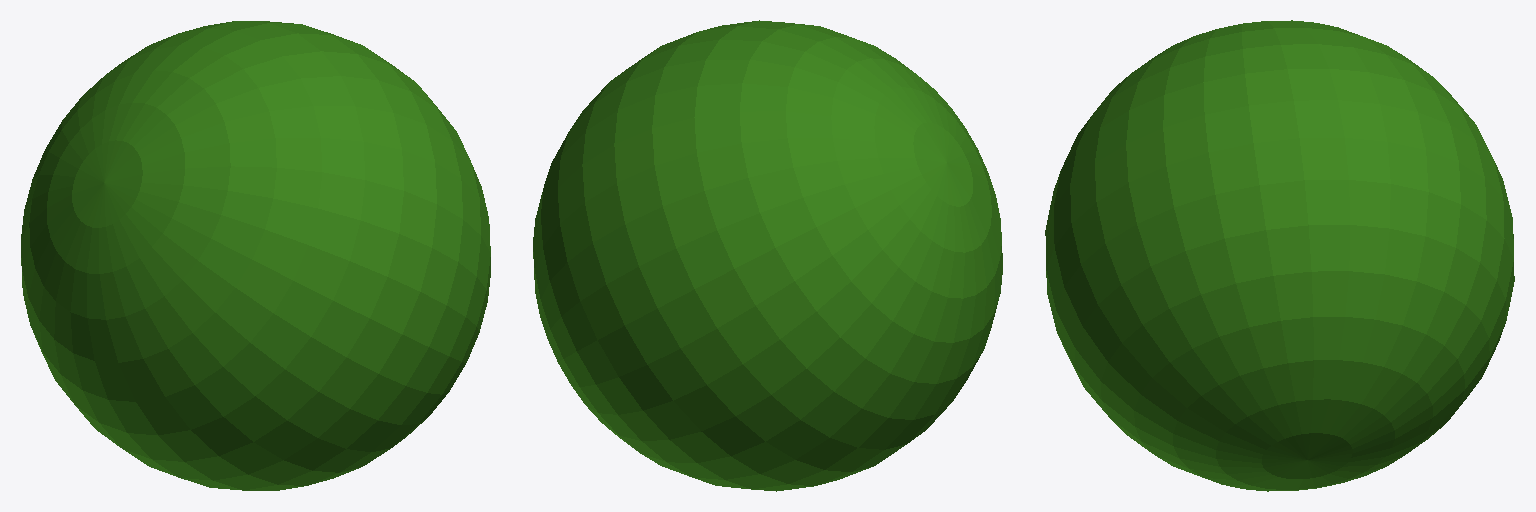
URDF robot description (onshape):
<robot name="onshape">
    
    <link name="fake_dummy_body:1">
        <visual>
            <origin xyz="0 0 0" rpy="-0.785398 -0.61548 1.19113" />
            <geometry>
                <sphere radius="0.1"/>
            </geometry>
            <material name="fake_dummy_body:1_material">
                <color rgba="0.282353 0.54902 0.160784 1.0"/>
            </material>
        </visual>
        <collision>
            <origin xyz="0 0 0" rgba="1 0 0 0.5" />
            <geometry>
                <sphere radius="0.1"/>
            </geometry>
            <material name="fake_dummy_body:1_material">
                <color rgba="0.282353 0.54902 0.160784 1.0"/>
            </material>
        </collision>
        <inertial>
            <origin xyz="0 0 0" rpy="0 0 0"/>
            <mass value="0.0737312" />
            <inertia ixx="0.00107839" ixy="-2.72753e-07" ixz="-6.10453e-07" iyy="0.00107874" iyz="-3.33412e-07" izz="0.00107814" />
        </inertial>
    </link>

    <link name="rev_joint:1">
        <visual>
            <origin xyz="0 0 0" rpy="3.14159 0 0" />
            <geometry>
                <mesh filename="package://rev_joint:1.stl"/>
            </geometry>
            <material name="rev_joint:1_material">
                <color rgba="0.980392 0.713725 0.00392157 1.0"/>
            </material>
        </visual>
        <collision>
            <origin xyz="0 0 0" rpy="3.14159 0 0" />
            <geometry>
                <mesh filename="package://rev_joint:1.stl"/>
            </geometry>
            <material name="rev_joint:1_material">
                <color rgba="0.980392 0.713725 0.00392157 1.0"/>
            </material>
        </collision>
        <inertial>
            <origin xyz="0.0438631 -1.74312e-17 -0.000928357" rpy="0 0 0"/>
            <mass value="0.00153243" />
            <inertia ixx="1.18928e-06" ixy="1.25481e-22" ixz="-8.58241e-08" iyy="2.31952e-06" iyz="1.38287e-22" izz="2.36022e-06" />
        </inertial>
    </link>

    <link name="member:1">
        <visual>
            <origin xyz="0 0 -0.5" rpy="5.55112e-17 -0 0" />
            <geometry>
                <mesh filename="package://member:1.stl"/>
            </geometry>
            <material name="member:1_material">
                <color rgba="0 0 1 1.0"/>
            </material>
        </visual>
        <collision>
            <origin xyz="0 0 -0.5" rpy="5.55112e-17 -0 0" />
            <geometry>
                <mesh filename="package://member:1.stl"/>
            </geometry>
            <material name="member:1_material">
                <color rgba="0 0 1 1.0"/>
            </material>
            <surface>
                <friction>
                <ode>
                    <mu>1</mu>
                    <mu2>0.5</mu2>
                </ode>
                </friction>
            </surface>
        </collision>
        <inertial>
            <origin xyz="0 0 -0.402703" rpy="0 0 0"/>
            <mass value="6.54356" />
            <inertia ixx="0.175312" ixy="-1.94635e-17" ixz="0" iyy="0.175312" iyz="1.82947e-09" izz="0.0193419" />
        </inertial>
    </link>

    <joint name="pri1" type="prismatic">
        <origin xyz="0.1 -2.77556e-17 2.21177e-17" rpy="1.5708 -1.27676e-15 -1.5708" />
        <parent link="rev_joint:1" />
        <child link="member:1" />
        <axis xyz="0 0 1"/>
        <limit effort="1" velocity="20" lower="-1" upper="0"/>
        <joint_properties friction="0.0"/>
    </joint>

    <joint name="rev1" type="revolute">
        <origin xyz="0.121208 0.0219977 -0.0845971" rpy="0.785398 0.61548 0.143931" />
        <parent link="fake_dummy_body:1" />
        <child link="rev_joint:1" />
        <axis xyz="0 0 1"/>
        <limit effort="1" velocity="20" lower="-1" upper="1"/>
        <joint_properties friction="0.0"/>
    </joint>

    <link name="rev_joint:1_2">
        <visual>
            <origin xyz="0 -1.0842e-18 -1.51788e-18" rpy="-3.14159 -0 -5.55112e-17" />
            <geometry>
                <mesh filename="package://rev_joint:1.stl"/>
            </geometry>
            <material name="rev_joint:1_material">
                <color rgba="0.980392 0.713725 0.00392157 1.0"/>
            </material>
        </visual>
        <collision>
            <origin xyz="0 -1.0842e-18 -1.51788e-18" rpy="-3.14159 -0 -5.55112e-17" />
            <geometry>
                <mesh filename="package://rev_joint:1.stl"/>
            </geometry>
            <material name="rev_joint:1_material">
                <color rgba="0.980392 0.713725 0.00392157 1.0"/>
            </material>
        </collision>
        <inertial>
            <origin xyz="0.0438631 -2.09962e-18 -0.000928357" rpy="0 0 0"/>
            <mass value="0.00153243" />
            <inertia ixx="1.18928e-06" ixy="2.56032e-22" ixz="-8.58241e-08" iyy="2.31952e-06" iyz="-7.26909e-24" izz="2.36022e-06" />
        </inertial>
    </link>

    <link name="member:1_2">
        <visual>
            <origin xyz="-1.14709e-16 6.16911e-17 -0.5" rpy="1.11022e-16 5.55112e-17 0" />
            <geometry>
                <mesh filename="package://member:1.stl"/>
            </geometry>
            <material name="member:1_material">
                <color rgba="0 0 1 1.0"/>
            </material>
        </visual>
        <collision>
            <origin xyz="-1.14709e-16 6.16911e-17 -0.5" rpy="1.11022e-16 5.55112e-17 0" />
            <geometry>
                <mesh filename="package://member:1.stl"/>
            </geometry>
            <material name="member:1_material">
                <color rgba="0 0 1 1.0"/>
            </material>
            <surface>
                <friction>
                <ode>
                    <mu>1</mu>
                    <mu2>0.5</mu2>
                </ode>
                </friction>
            </surface>
        </collision>
        <inertial>
            <origin xyz="-9.8046e-17 0 -0.402703" rpy="0 0 0"/>
            <mass value="6.54356" />
            <inertia ixx="0.175312" ixy="-9.73176e-18" ixz="3.78533e-17" iyy="0.175312" iyz="1.82947e-09" izz="0.0193419" />
        </inertial>
    </link>

    <joint name="pri2" type="prismatic">
        <origin xyz="0.1 -1.46801e-16 3.17671e-16" rpy="1.5708 4.996e-16 -1.5708" />
        <parent link="rev_joint:1_2" />
        <child link="member:1_2" />
        <axis xyz="0 0 1"/>
        <limit effort="1" velocity="20" lower="-1" upper="0"/>
        <joint_properties friction="0.0"/>
    </joint>

    <joint name="rev2" type="revolute">
        <origin xyz="-0.0453905 -0.109322 -0.0845971" rpy="0.785398 0.61548 -1.95046" />
        <parent link="fake_dummy_body:1" />
        <child link="rev_joint:1_2" />
        <axis xyz="0 0 1"/>
        <limit effort="1" velocity="20" lower="-1" upper="1"/>
        <joint_properties friction="0.0"/>
    </joint>

    <link name="rev_joint:1_3">
        <visual>
            <origin xyz="-2.77556e-17 1.73472e-18 -2.60209e-18" rpy="-3.14159 -5.55112e-17 0" />
            <geometry>
                <mesh filename="package://rev_joint:1.stl"/>
            </geometry>
            <material name="rev_joint:1_material">
                <color rgba="0.980392 0.713725 0.00392157 1.0"/>
            </material>
        </visual>
        <collision>
            <origin xyz="-2.77556e-17 1.73472e-18 -2.60209e-18" rpy="-3.14159 -5.55112e-17 0" />
            <geometry>
                <mesh filename="package://rev_joint:1.stl"/>
            </geometry>
            <material name="rev_joint:1_material">
                <color rgba="0.980392 0.713725 0.00392157 1.0"/>
            </material>
        </collision>
        <inertial>
            <origin xyz="0.0438631 3.05113e-18 -0.000928357" rpy="0 0 0"/>
            <mass value="0.00153243" />
            <inertia ixx="1.18928e-06" ixy="-4.76419e-24" ixz="-8.58241e-08" iyy="2.31952e-06" iyz="2.59777e-22" izz="2.36022e-06" />
        </inertial>
    </link>

    <link name="member:1_3">
        <visual>
            <origin xyz="2.77556e-17 3.36103e-18 -0.5" rpy="0 -0 0" />
            <geometry>
                <mesh filename="package://member:1.stl"/>
            </geometry>
            <material name="member:1_material">
                <color rgba="0 0 1 1.0"/>
            </material>
        </visual>
        <collision>
            <origin xyz="2.77556e-17 3.36103e-18 -0.5" rpy="0 -0 0" />
            <geometry>
                <mesh filename="package://member:1.stl"/>
            </geometry>
            <material name="member:1_material">
                <color rgba="0 0 1 1.0"/>
            </material>
            <surface>
                <friction>
                <ode>
                    <mu>1</mu>
                    <mu2>0.5</mu2>
                </ode>
                </friction>
            </surface>
        </collision>
        <inertial>
            <origin xyz="2.28138e-17 0 -0.402703" rpy="0 0 0"/>
            <mass value="6.54356" />
            <inertia ixx="0.175312" ixy="-1.94635e-17" ixz="0" iyy="0.175312" iyz="1.82947e-09" izz="0.0193419" />
        </inertial>
    </link>

    <joint name="pri3" type="prismatic">
        <origin xyz="0.1 4.33681e-17 -3.72966e-17" rpy="-3.14159 1.5708 0" />
        <parent link="rev_joint:1_3" />
        <child link="member:1_3" />
        <axis xyz="0 0 1"/>
        <limit effort="1" velocity="20" lower="-1" upper="0"/>
        <joint_properties friction="0.0"/>
    </joint>

    <joint name="rev3" type="revolute">
        <origin xyz="-0.0758176 0.100616 -0.0845971" rpy="-2.35619 0.61548 2.23833" />
        <parent link="fake_dummy_body:1" />
        <child link="rev_joint:1_3" />
        <axis xyz="0 0 1"/>
        <limit effort="1" velocity="20" lower="-1" upper="1"/>
        <joint_properties friction="0.0"/>
    </joint>

    <link name="rev_joint:1_4">
        <visual>
            <origin xyz="2.77556e-17 -3.90313e-18 6.93889e-18" rpy="3.14159 -5.55112e-17 0" />
            <geometry>
                <mesh filename="package://rev_joint:1.stl"/>
            </geometry>
            <material name="rev_joint:1_material">
                <color rgba="0.980392 0.713725 0.00392157 1.0"/>
            </material>
        </visual>
        <collision>
            <origin xyz="2.77556e-17 -3.90313e-18 6.93889e-18" rpy="3.14159 -5.55112e-17 0" />
            <geometry>
                <mesh filename="package://rev_joint:1.stl"/>
            </geometry>
            <material name="rev_joint:1_material">
                <color rgba="0.980392 0.713725 0.00392157 1.0"/>
            </material>
        </collision>
        <inertial>
            <origin xyz="0.0438631 -2.43212e-18 -0.000928357" rpy="0 0 0"/>
            <mass value="0.00153243" />
            <inertia ixx="1.18928e-06" ixy="7.07826e-23" ixz="-8.58241e-08" iyy="2.31952e-06" iyz="-3.93301e-22" izz="2.36022e-06" />
        </inertial>
    </link>

    <link name="member:1_4">
        <visual>
            <origin xyz="0 5.09575e-18 -0.5" rpy="0 -5.55112e-17 -5.55112e-17" />
            <geometry>
                <mesh filename="package://member:1.stl"/>
            </geometry>
            <material name="member:1_material">
                <color rgba="0 0 1 1.0"/>
            </material>
        </visual>
        <collision>
            <origin xyz="0 5.09575e-18 -0.5" rpy="0 -5.55112e-17 -5.55112e-17" />
            <geometry>
                <mesh filename="package://member:1.stl"/>
            </geometry>
            <material name="member:1_material">
                <color rgba="0 0 1 1.0"/>
            </material>
            <surface>
                <friction>
                <ode>
                    <mu>1</mu>
                    <mu2>0.5</mu2>
                </ode>
                </friction>
            </surface>
        </collision>
        <inertial>
            <origin xyz="-1.57439e-17 0 -0.402703" rpy="0 0 0"/>
            <mass value="6.54356" />
            <inertia ixx="0.175312" ixy="-5.30476e-24" ixz="-1.83898e-17" iyy="0.175312" iyz="1.82947e-09" izz="0.0193419" />
        </inertial>
    </link>

    <joint name="pri4" type="prismatic">
        <origin xyz="0.1 -9.41087e-17 7.63278e-17" rpy="-3.14159 1.5708 0" />
        <parent link="rev_joint:1_4" />
        <child link="member:1_4" />
        <axis xyz="0 0 1"/>
        <limit effort="1" velocity="20" lower="-1" upper="0"/>
        <joint_properties friction="0.0"/>
    </joint>

    <joint name="rev4" type="revolute">
        <origin xyz="0.0758176 -0.0917551 0.088608" rpy="-0.785398 -0.61548 -0.903267" />
        <parent link="fake_dummy_body:1" />
        <child link="rev_joint:1_4" />
        <axis xyz="0 0 1"/>
        <limit effort="1" velocity="20" lower="-1" upper="1"/>
        <joint_properties friction="0.0"/>
    </joint>

    <link name="rev_joint:1_5">
        <visual>
            <origin xyz="0 4.33681e-19 7.58942e-19" rpy="3.14159 5.55112e-17 0" />
            <geometry>
                <mesh filename="package://rev_joint:1.stl"/>
            </geometry>
            <material name="rev_joint:1_material">
                <color rgba="0.980392 0.713725 0.00392157 1.0"/>
            </material>
        </visual>
        <collision>
            <origin xyz="0 4.33681e-19 7.58942e-19" rpy="3.14159 5.55112e-17 0" />
            <geometry>
                <mesh filename="package://rev_joint:1.stl"/>
            </geometry>
            <material name="rev_joint:1_material">
                <color rgba="0.980392 0.713725 0.00392157 1.0"/>
            </material>
        </collision>
        <inertial>
            <origin xyz="0.0438631 1.80162e-18 -0.000928357" rpy="0 0 0"/>
            <mass value="0.00153243" />
            <inertia ixx="1.18928e-06" ixy="2.64074e-22" ixz="-8.58241e-08" iyy="2.31952e-06" iyz="-1.90568e-23" izz="2.36022e-06" />
        </inertial>
    </link>

    <link name="member:1_5">
        <visual>
            <origin xyz="5.26922e-17 6.87384e-17 -0.5" rpy="5.55112e-17 -5.55112e-17 5.55112e-17" />
            <geometry>
                <mesh filename="package://member:1.stl"/>
            </geometry>
            <material name="member:1_material">
                <color rgba="0 0 1 1.0"/>
            </material>
        </visual>
        <collision>
            <origin xyz="5.26922e-17 6.87384e-17 -0.5" rpy="5.55112e-17 -5.55112e-17 5.55112e-17" />
            <geometry>
                <mesh filename="package://member:1.stl"/>
            </geometry>
            <material name="member:1_material">
                <color rgba="0 0 1 1.0"/>
            </material>
            <surface>
                <friction>
                <ode>
                    <mu>1</mu>
                    <mu2>0.5</mu2>
                </ode>
                </friction>
            </surface>
        </collision>
        <inertial>
            <origin xyz="4.23494e-17 0 -0.402703" rpy="0 0 0"/>
            <mass value="6.54356" />
            <inertia ixx="0.175312" ixy="2.91953e-17" ixz="-8.65807e-18" iyy="0.175312" iyz="1.82947e-09" izz="0.0193419" />
        </inertial>
    </link>

    <joint name="pri5" type="prismatic">
        <origin xyz="0.1 2.22478e-16 2.08926e-16" rpy="1.5708 1.66533e-16 -1.5708" />
        <parent link="rev_joint:1_5" />
        <child link="member:1_5" />
        <axis xyz="0 0 1"/>
        <limit effort="1" velocity="20" lower="-1" upper="0"/>
        <joint_properties friction="0.0"/>
    </joint>

    <joint name="rev5" type="revolute">
        <origin xyz="0.0453905 0.118183 0.088608" rpy="2.35619 -0.61548 1.19113" />
        <parent link="fake_dummy_body:1" />
        <child link="rev_joint:1_5" />
        <axis xyz="0 0 1"/>
        <limit effort="1" velocity="20" lower="-1" upper="1"/>
        <joint_properties friction="0.0"/>
    </joint>

    <link name="rev_joint:1_6">
        <visual>
            <origin xyz="0 -4.33681e-18 5.85469e-18" rpy="-3.14159 -0 -5.55112e-17" />
            <geometry>
                <mesh filename="package://rev_joint:1.stl"/>
            </geometry>
            <material name="rev_joint:1_material">
                <color rgba="0.980392 0.713725 0.00392157 1.0"/>
            </material>
        </visual>
        <collision>
            <origin xyz="0 -4.33681e-18 5.85469e-18" rpy="-3.14159 -0 -5.55112e-17" />
            <geometry>
                <mesh filename="package://rev_joint:1.stl"/>
            </geometry>
            <material name="rev_joint:1_material">
                <color rgba="0.980392 0.713725 0.00392157 1.0"/>
            </material>
        </collision>
        <inertial>
            <origin xyz="0.0438631 -5.35223e-18 -0.000928357" rpy="0 0 0"/>
            <mass value="0.00153243" />
            <inertia ixx="1.18928e-06" ixy="2.51268e-22" ixz="-8.58241e-08" iyy="2.31952e-06" iyz="1.23749e-22" izz="2.36022e-06" />
        </inertial>
    </link>

    <link name="member:1_6">
        <visual>
            <origin xyz="-5.63785e-17 -2.77556e-17 -0.5" rpy="0 5.55112e-17 0" />
            <geometry>
                <mesh filename="package://member:1.stl"/>
            </geometry>
            <material name="member:1_material">
                <color rgba="0 0 1 1.0"/>
            </material>
        </visual>
        <collision>
            <origin xyz="-5.63785e-17 -2.77556e-17 -0.5" rpy="0 5.55112e-17 0" />
            <geometry>
                <mesh filename="package://member:1.stl"/>
            </geometry>
            <material name="member:1_material">
                <color rgba="0 0 1 1.0"/>
            </material>
            <surface>
                <friction>
                <ode>
                    <mu>1</mu>
                    <mu2>0.5</mu2>
                </ode>
                </friction>
            </surface>
        </collision>
        <inertial>
            <origin xyz="-5.05181e-17 0 -0.402703" rpy="0 0 0"/>
            <mass value="6.54356" />
            <inertia ixx="0.175312" ixy="-1.09142e-23" ixz="1.83898e-17" iyy="0.175312" iyz="1.82947e-09" izz="0.0193419" />
        </inertial>
    </link>

    <joint name="pri6" type="prismatic">
        <origin xyz="0.1 1.69136e-16 -3.20273e-16" rpy="1.5708 2.22045e-16 -1.5708" />
        <parent link="rev_joint:1_6" />
        <child link="member:1_6" />
        <axis xyz="0 0 1"/>
        <limit effort="1" velocity="20" lower="-1" upper="0"/>
        <joint_properties friction="0.0"/>
    </joint>

    <joint name="rev6" type="revolute">
        <origin xyz="-0.121208 -0.0131365 0.088608" rpy="2.35619 -0.61548 -2.99766" />
        <parent link="fake_dummy_body:1" />
        <child link="rev_joint:1_6" />
        <axis xyz="0 0 1"/>
        <limit effort="1" velocity="20" lower="-1" upper="1"/>
        <joint_properties friction="0.0"/>
    </joint>


</robot>

--- Render facts (derived) ---
Views: 3 orthographic renders of the robot side by side, from view 1: azimuth 30°, elevation 25°; view 2: azimuth 150°, elevation 25°; view 3: azimuth 270°, elevation 25°.
Model onshape with 13 links and 12 joints (6 revolute, 6 prismatic), rooted at fake_dummy_body:1, posed every joint at zero.
Visible links, largest first — view 1: fake_dummy_body:1; view 2: fake_dummy_body:1; view 3: fake_dummy_body:1.
Link boxes in pixels (x1,y1,x2,y2): fake_dummy_body:1: (21, 21, 490, 490); fake_dummy_body:1: (533, 20, 1002, 491); fake_dummy_body:1: (1045, 20, 1514, 491).
Size in the robot's own frame: 0.1998 by 0.1987 by 0.1999 metres.
Geometry: only primitive shapes (box / cylinder / sphere) drawn; not drawn: 12 mesh visuals (reference in a form the renderer does not follow).